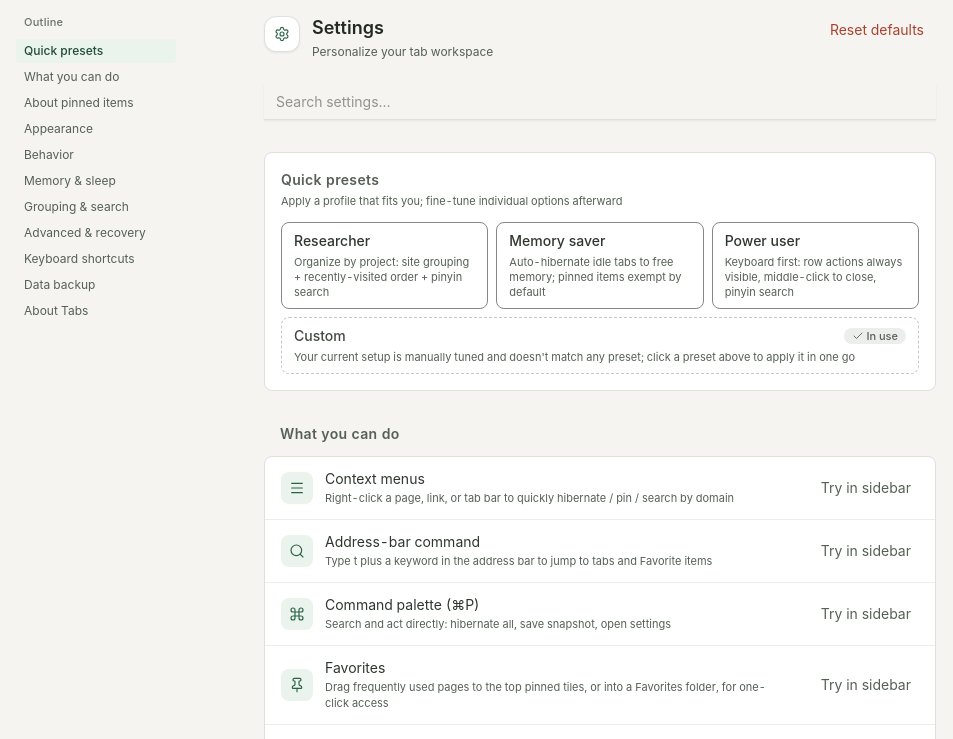
Test case: SettingsPage（渲染冒烟） › 静态区块的正文与目录共享搜索可见集合
Type "Data backup" into the search field with placeholder "Search settings…".
click(600, 102); type("Data backup")  # box top-left (264, 84), bottom-right (936, 120)
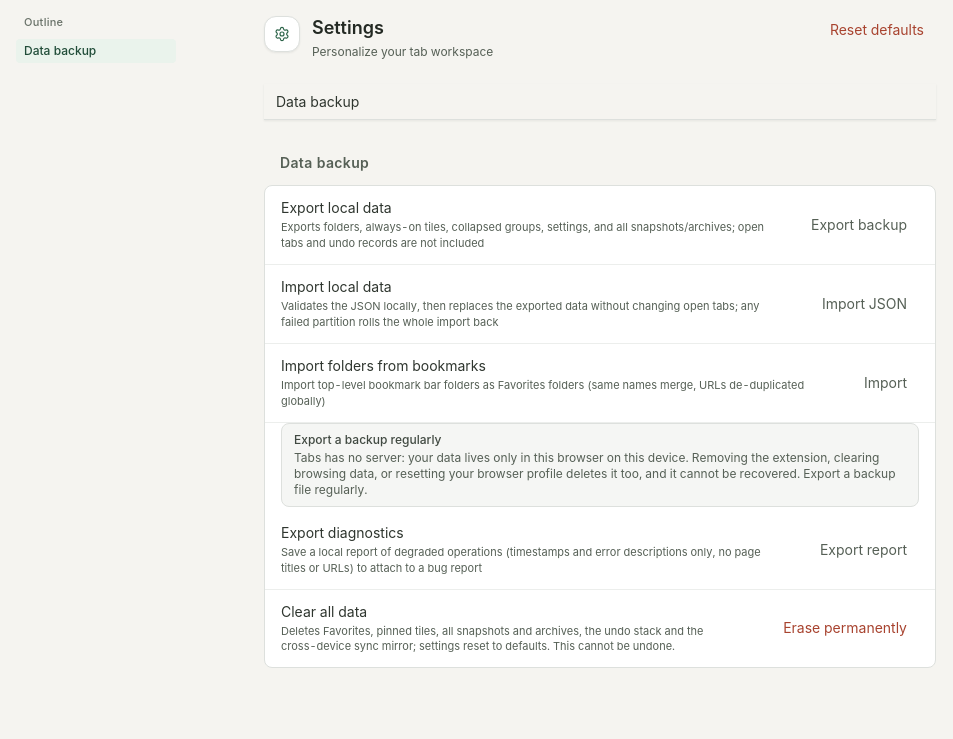
Expected: the link "Data backup" is shown, top-left (16, 38), bottom-right (176, 62)
Expected: the link "About Tabs" is gone
